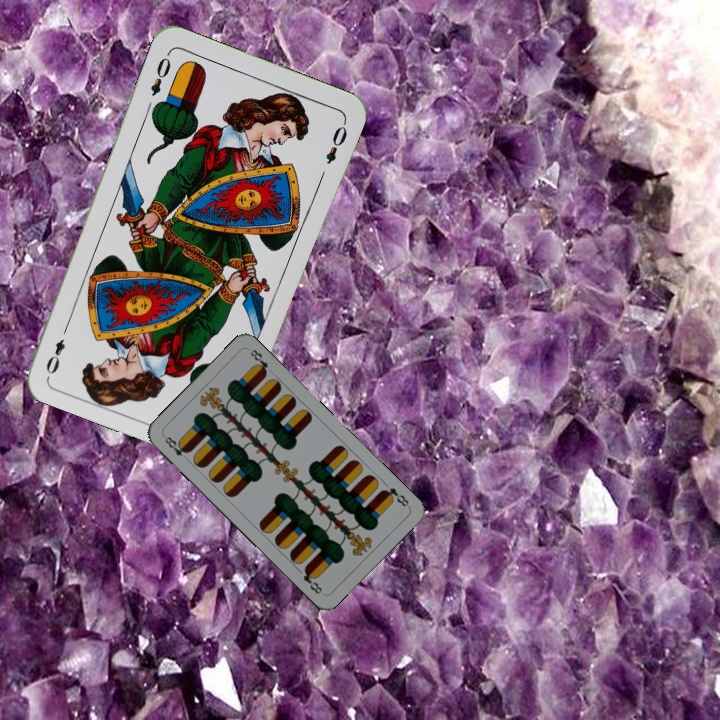E8: (159, 432, 192, 459), (377, 483, 411, 509)
EO: (146, 48, 174, 99)
